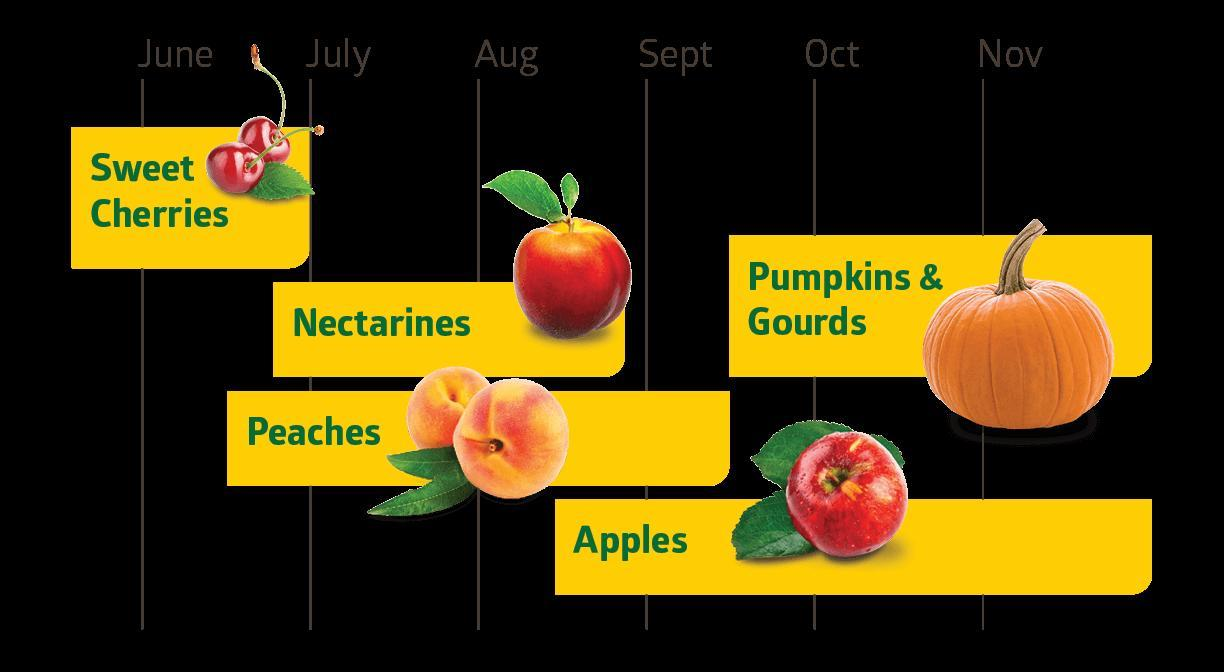apple: (785, 427, 909, 557), (512, 218, 631, 340)
